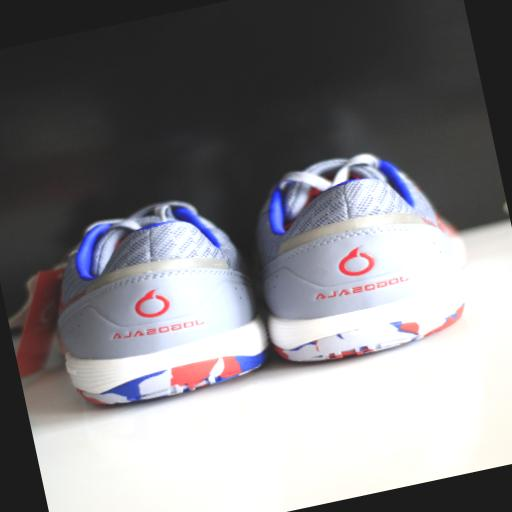shoe: (257, 155, 464, 361), (58, 202, 266, 404)
